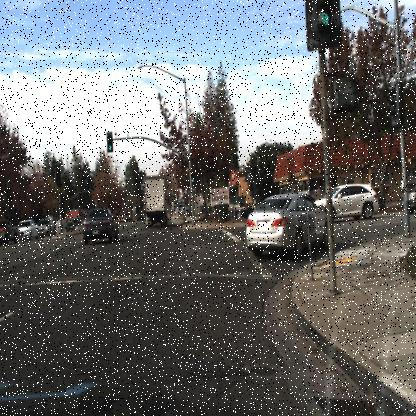car: (242, 184, 327, 268), (244, 189, 330, 257), (324, 171, 381, 228), (72, 197, 124, 256), (16, 212, 38, 243), (0, 216, 21, 247), (228, 195, 255, 219), (37, 213, 56, 245), (134, 206, 148, 225), (122, 208, 134, 226)
trafficLight-Green: (102, 137, 116, 160), (186, 168, 200, 191), (186, 171, 193, 188)
truck: (138, 168, 171, 233)
